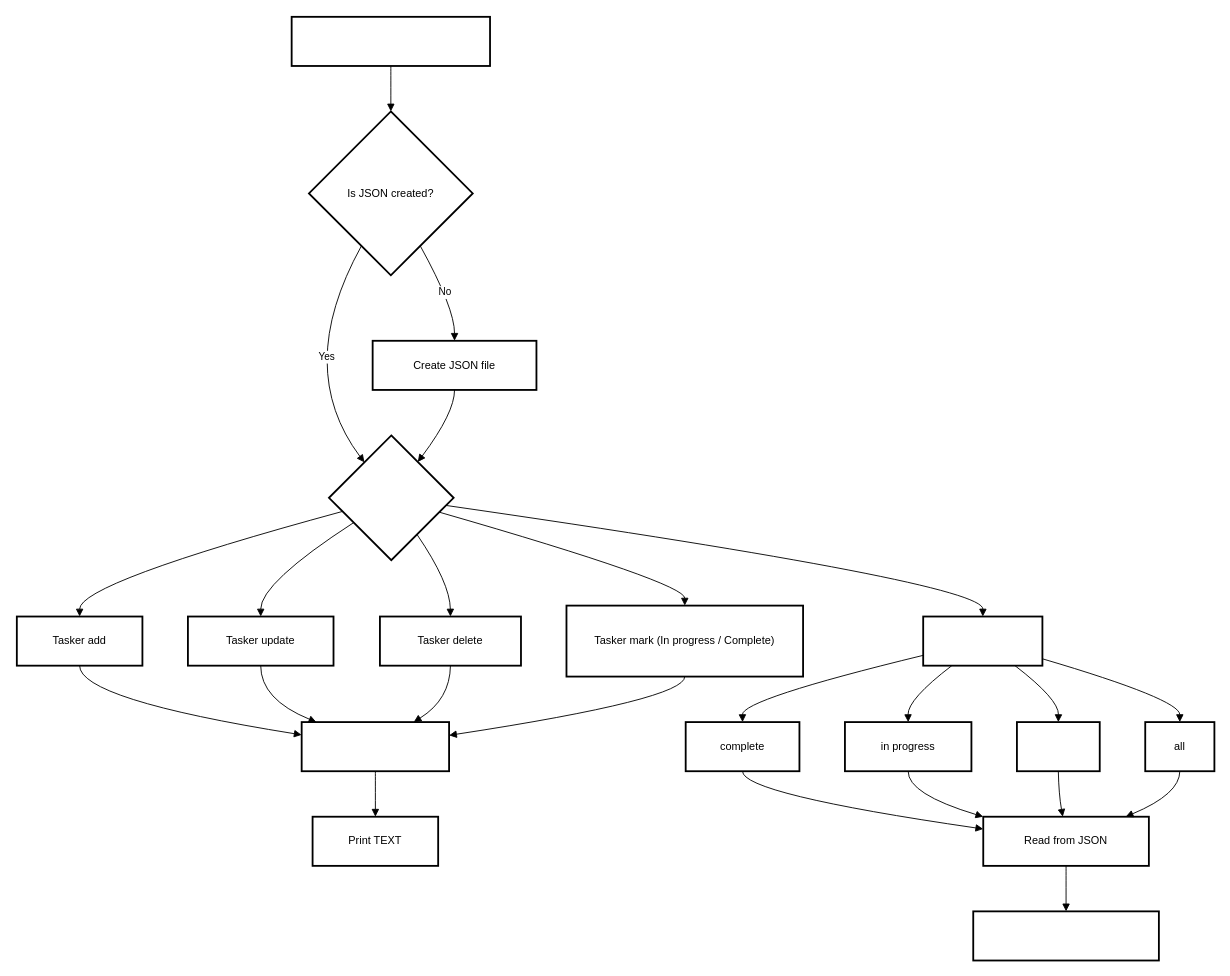
Some shapes in this 1230 by 976 pixel diagram are drawn without their labels. Here are the shapes that lost their labels. From the top down, the centre of each, then its label:
At pixel 390 40: "Start CLI Task Tracker".
At pixel 391 497: "Command?".
At pixel 982 640: "Tasker list".
At pixel 375 746: "Store in JSON".
At pixel 1058 746: "todo".
At pixel 1065 935: "Print requested data".
